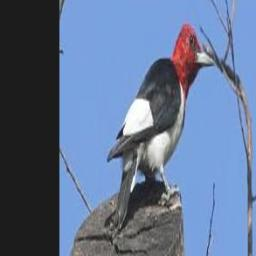Woodpecker: (107, 23, 215, 229)
